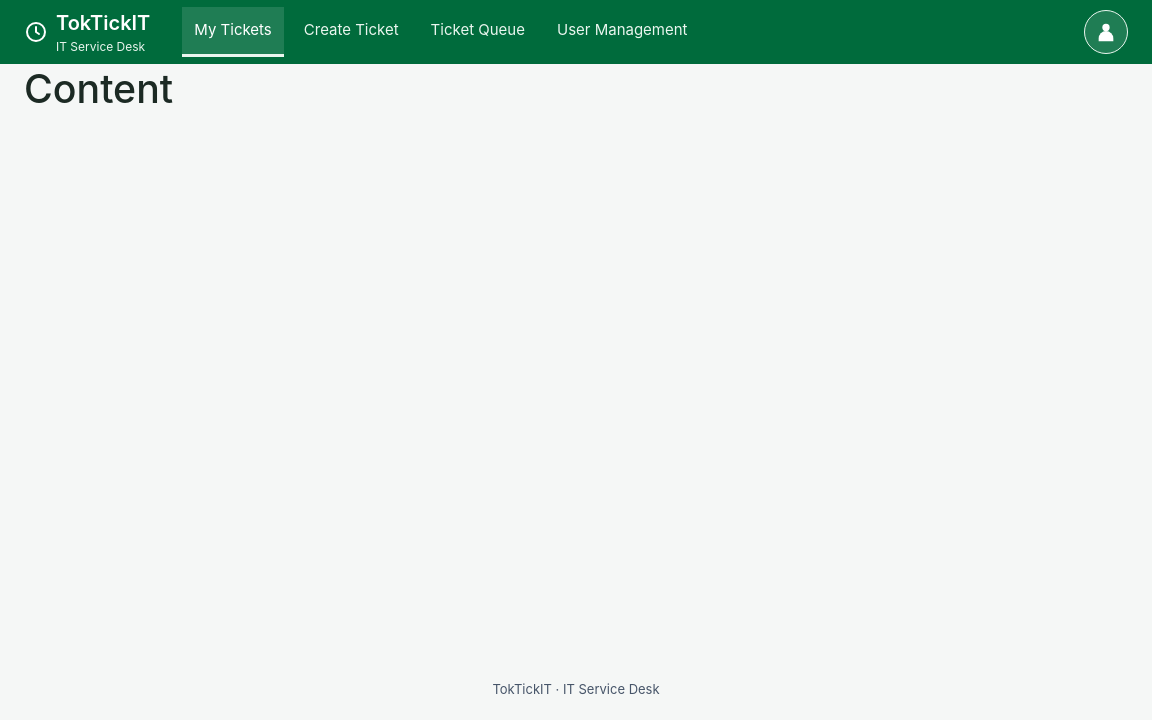
Test: UI-SHELL-01: uses the shared profile menu for ADMINISTRATOR
Expected: the text "Jennifer Anderson" is not shown
Click the button named "Open profile menu" at coordinates (1106, 32), box [1084,10,1128,54]
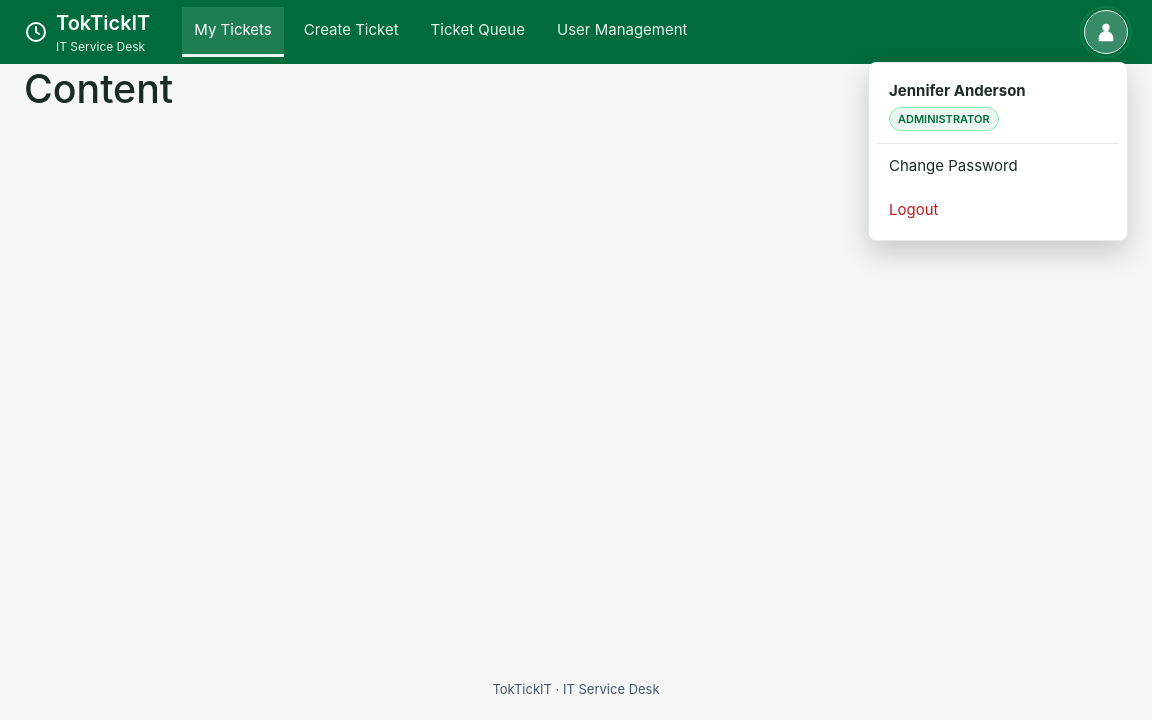
Expected: the button named "Open profile menu" is expanded, [1084,10,1128,54]
Expected: the text "Jennifer Anderson" is shown, [889,81,1026,100]
Expected: the text "ADMINISTRATOR" is shown, [889,106,999,131]
